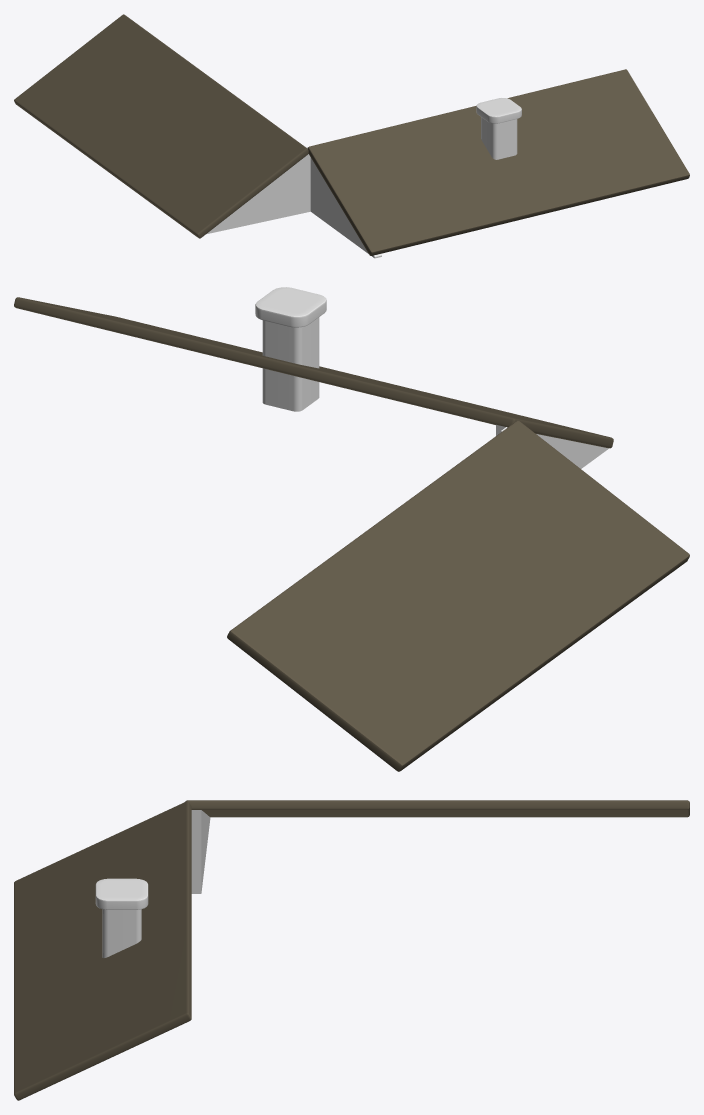
File: topPartRoof.fbx
The picture shows the model from 3 angles, top to bottom: view 1: azimuth 30°, elevation 25°; view 2: azimuth 150°, elevation 25°; view 3: azimuth 270°, elevation 25°; orthographic projection. The views are drawn at different scales.
Parts seen in each view (by area): view 1: topRoof; view 2: topRoof; view 3: topRoof.
Part boxes in pixels (box(x1,y1,x2,y2)): topRoof: box(14, 14, 689, 258); topRoof: box(14, 287, 689, 771); topRoof: box(14, 800, 689, 1100).
Size of the model in its own units: 17.2 by 3.16 by 17.08.
